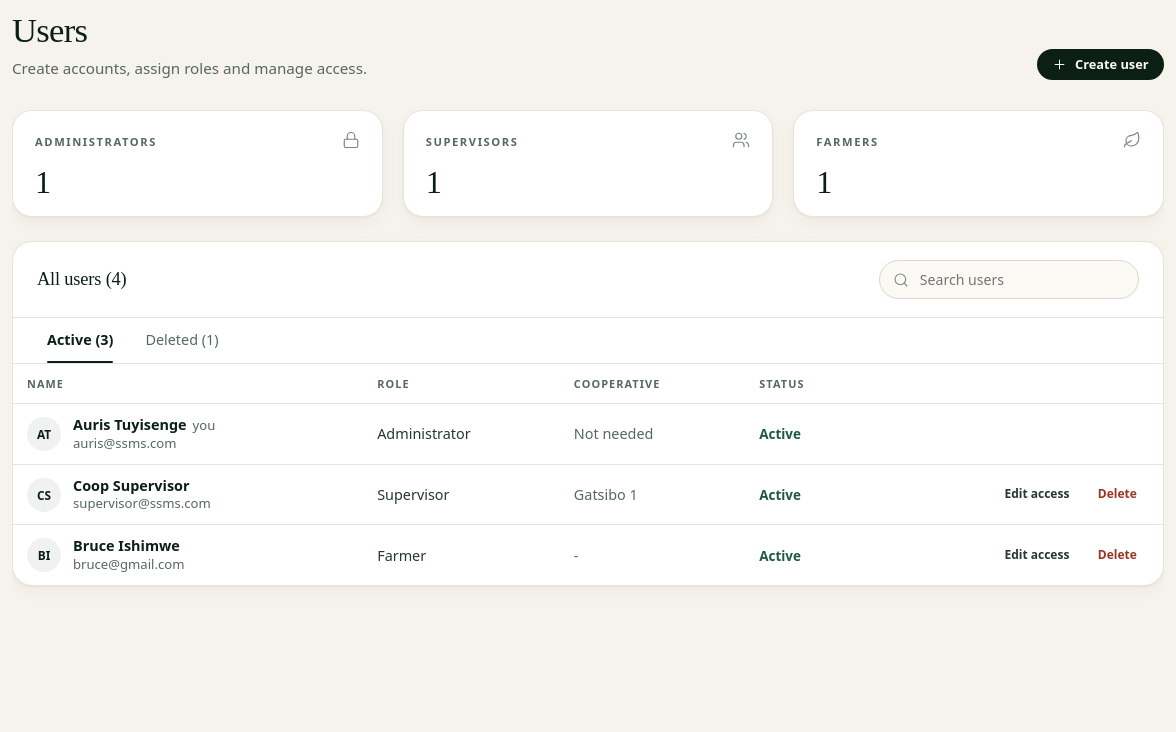
Test: Users page › lists active people first and keeps deleted people under their own tab
Expected: the text "Active" in the row of "BI" is shown, [759,546,801,564]
Expected: the text "Gad Anaclet" is not shown
Click the tab "Deleted (1)". click: (182, 340)
box: [131,318,233,363]
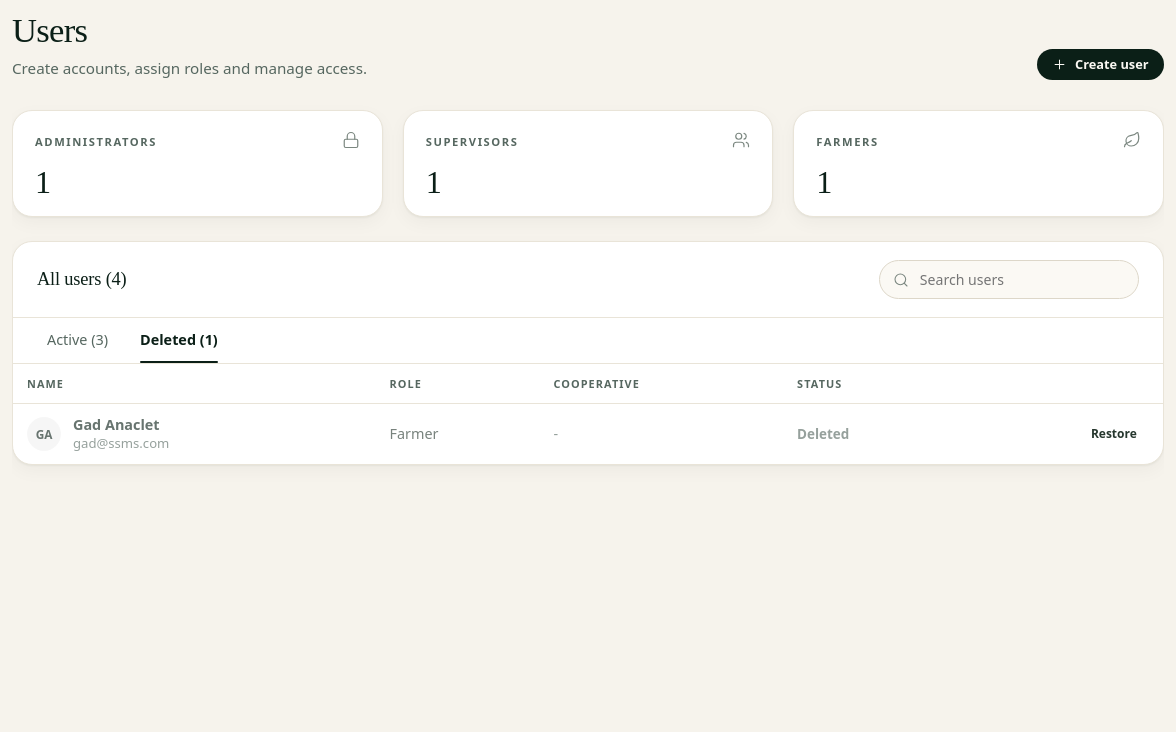
Result: the text "Deleted" is shown at [797,425,849,443]
Result: the text "Bruce Ishimwe" is gone
